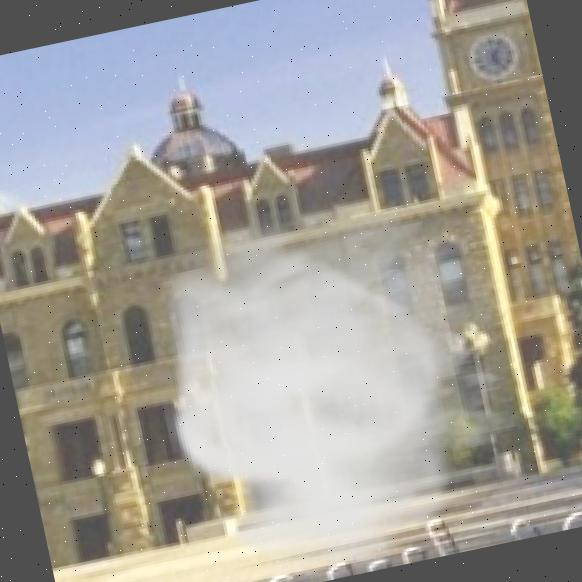smoke: (125, 153, 576, 582)
